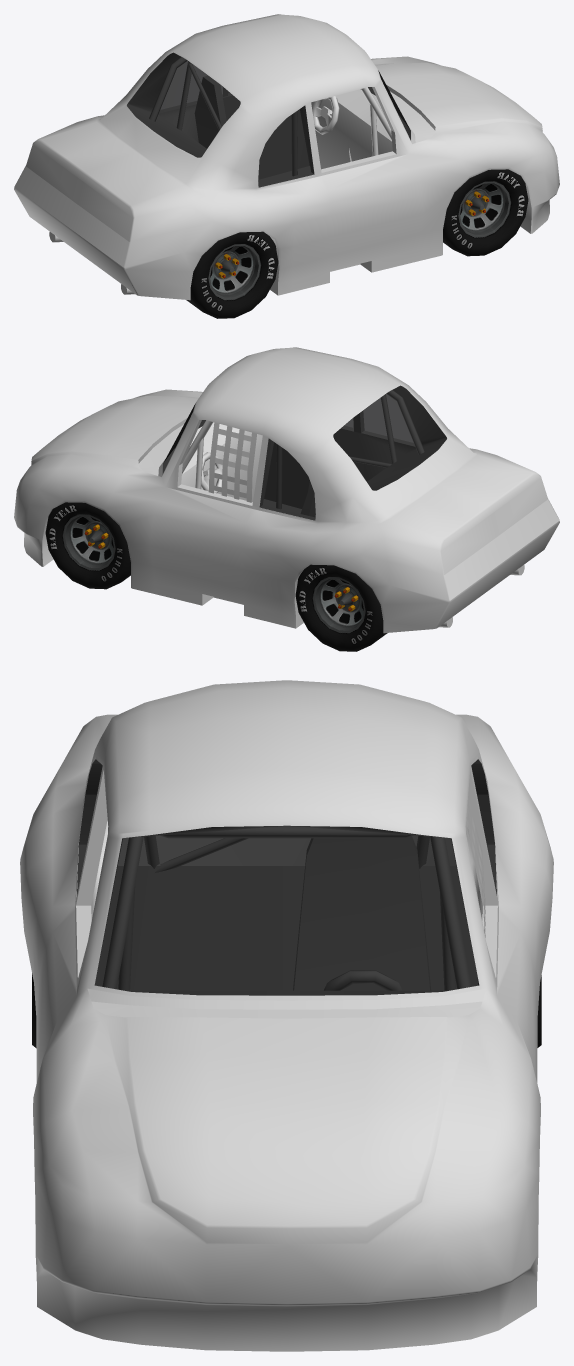
The picture shows the model from 3 angles, top to bottom: view 1: azimuth 30°, elevation 25°; view 2: azimuth 150°, elevation 25°; view 3: azimuth 270°, elevation 25°; orthographic projection. The views are drawn at different scales.
Visible parts, largest first — view 1: CarBody, Glass, TireRearR, TireFrontR; view 2: CarBody, Glass, TireRearL, TireFrontL; view 3: CarBody, Glass.
Part boxes in pixels (box(x1,y1,x2,y2)): CarBody: box(14, 14, 559, 300); Glass: box(127, 52, 410, 187); TireRearR: box(186, 231, 278, 318); TireFrontR: box(443, 169, 528, 256); CarBody: box(14, 347, 559, 633); Glass: box(163, 385, 446, 520); TireRearL: box(295, 564, 387, 651); TireFrontL: box(45, 502, 130, 589); CarBody: box(20, 680, 553, 1351); Glass: box(77, 759, 496, 995).
Bounding box in the file's own units: 250 × 109 × 126.
